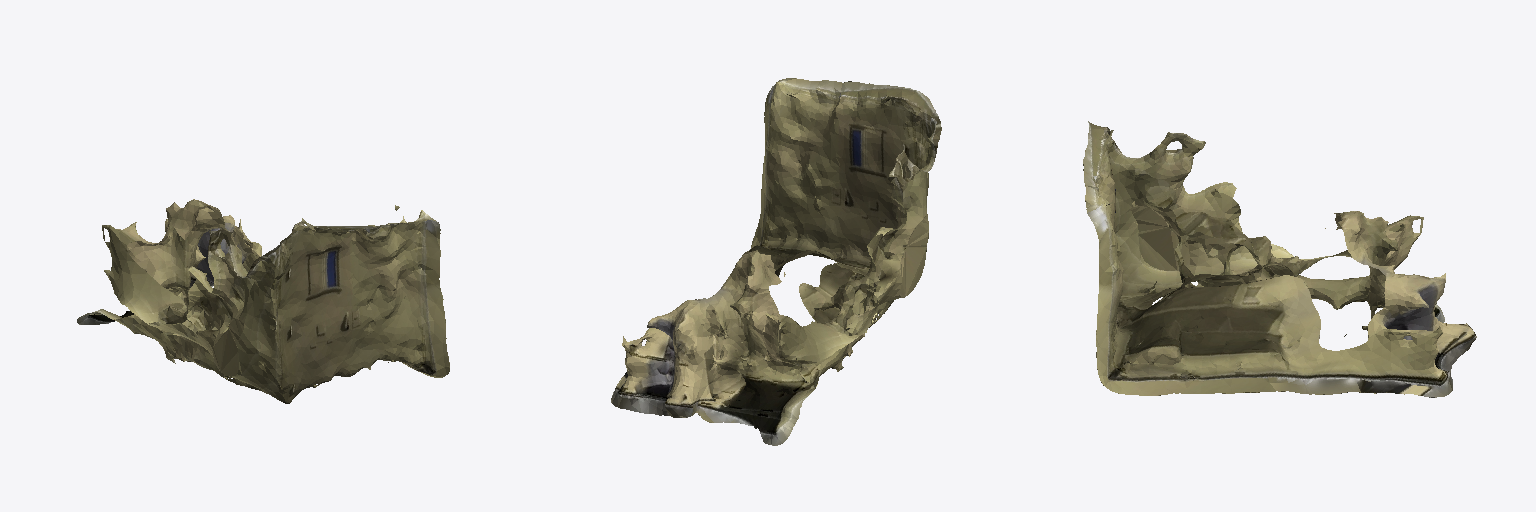
The picture shows the model from 3 angles: view 1: azimuth 30°, elevation 25°; view 2: azimuth 150°, elevation 25°; view 3: azimuth 270°, elevation 25°; orthographic projection.
Parts seen in each view (by area): view 1: prefabcell:Mesh; view 2: prefabcell:Mesh; view 3: prefabcell:Mesh.
Part boxes in pixels (bbox=[...]): prefabcell:Mesh: bbox=[77, 199, 449, 403]; prefabcell:Mesh: bbox=[611, 78, 941, 445]; prefabcell:Mesh: bbox=[1083, 121, 1476, 397].
Bounding box in the file's own units: 31.77 × 31.62 × 51.74.
1 materials, 1 textured.